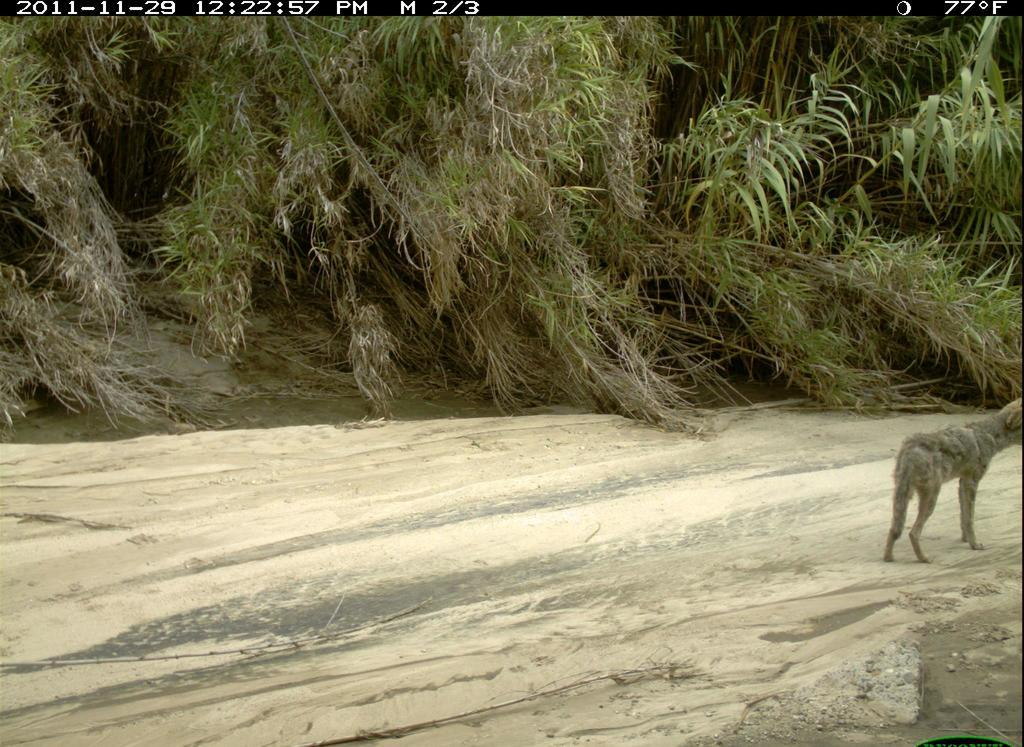coyote: (881, 388, 1023, 577)
